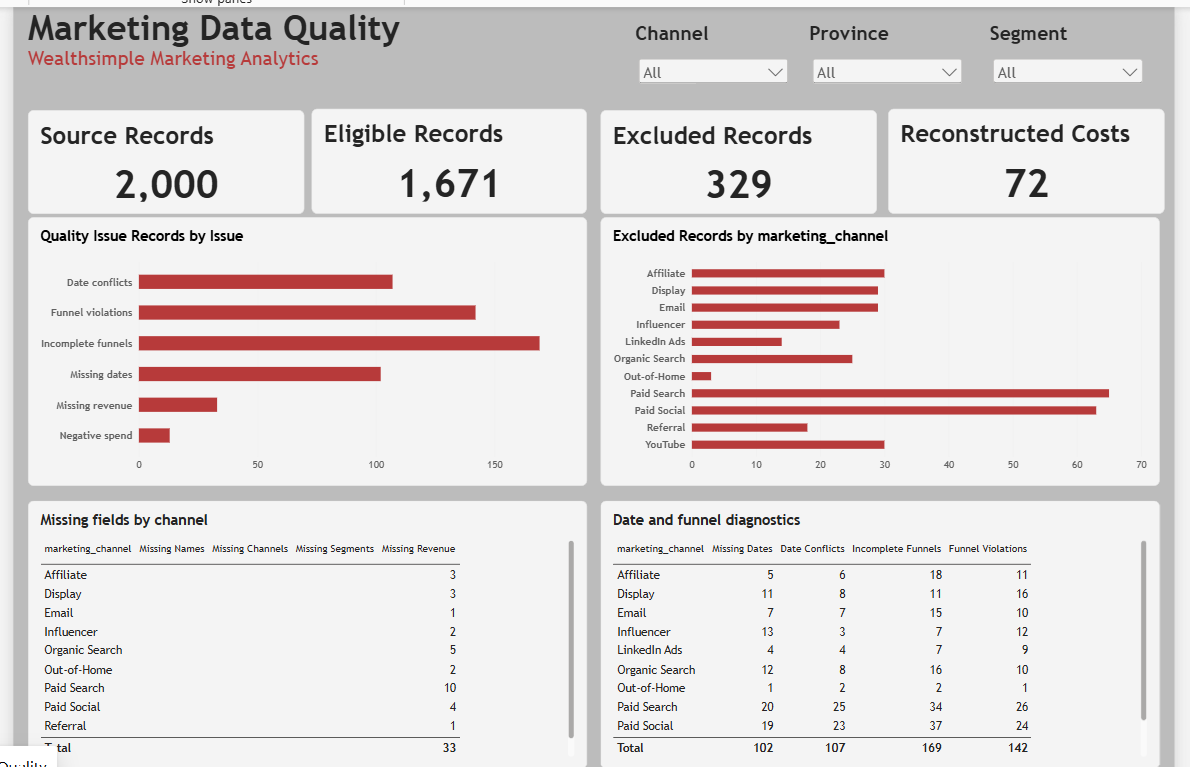

The dashboard page shown, as its layout file describes it:
{"tool":"powerbi","page":{"name":"Data Quality","canvas":[1600,1100],"ordinal":0},"visuals":[{"type":"slicer","title":"Channel","fields":{"Values":["Fact_Campaigns.marketing_channel"]},"box":[857.5,20,215,105],"z":0},{"type":"slicer","title":"Province","fields":{"Values":["Fact_Campaigns.province"]},"box":[1097.5,20,215,105],"z":1000},{"type":"slicer","title":"Segment","fields":{"Values":["Fact_Campaigns.customer_segment"]},"box":[1345,20,215,105],"z":2000},{"type":"card","title":"Source Records","fields":{"Values":["Fact_Campaigns.Source Records"]},"box":[19.4,142.6,380.6,143.5],"z":3000},{"type":"card","title":"Eligible Records","fields":{"Values":["Fact_Campaigns.Eligible Records"]},"box":[411.3,140.9,379,145.2],"z":4000},{"type":"card","title":"Excluded Records","fields":{"Values":["Fact_Campaigns.Excluded Records"]},"box":[809.7,142.6,380.6,143.5],"z":5000},{"type":"card","title":"Reconstructed Costs","fields":{"Values":["Fact_Campaigns.Reconstructed Costs"]},"box":[1204.8,140.9,380.6,145.2],"z":6000},{"type":"clusteredBarChart","fields":{"Category":["Quality_Issues.Issue"],"Y":["Fact_Campaigns.Quality Issue Records"]},"box":[20,290,770,370],"z":7000},{"type":"clusteredBarChart","fields":{"Category":["Fact_Campaigns.marketing_channel"],"Y":["Fact_Campaigns.Excluded Records"]},"box":[810,290,770,370],"z":8000},{"type":"tableEx","title":"Missing fields by channel","fields":{"Values":["Fact_Campaigns.marketing_channel","Fact_Campaigns.Missing Names","Fact_Campaigns.Missing Channels","Fact_Campaigns.Missing Segments","Fact_Campaigns.Missing Revenue"]},"box":[20,680,770,370],"z":9000},{"type":"tableEx","title":"Date and funnel diagnostics","fields":{"Values":["Fact_Campaigns.marketing_channel","Fact_Campaigns.Missing Dates","Fact_Campaigns.Date Conflicts","Fact_Campaigns.Incomplete Funnels","Fact_Campaigns.Funnel Violations"]},"box":[810,680,770,370],"z":10000},{"type":"textbox","box":[20,0,531.7,100],"z":11000}]}

Visuals, with their boxes on the page's 1600x1100 design canvas (x1, y1, x2, y2). These are canvas units, not pixel positions in the 1190x767 screenshot, which may show the page scaled, cropped or inside an application window:
"Channel" slicer: <region>858, 20, 1072, 125</region>
"Province" slicer: <region>1098, 20, 1312, 125</region>
"Segment" slicer: <region>1345, 20, 1560, 125</region>
"Source Records" card: <region>19, 143, 400, 286</region>
"Eligible Records" card: <region>411, 141, 790, 286</region>
"Excluded Records" card: <region>810, 143, 1190, 286</region>
"Reconstructed Costs" card: <region>1205, 141, 1585, 286</region>
clusteredBarChart - Quality_Issues.Issue x Fact_Campaigns.Quality Issue Records: <region>20, 290, 790, 660</region>
clusteredBarChart - Fact_Campaigns.marketing_channel x Fact_Campaigns.Excluded Records: <region>810, 290, 1580, 660</region>
"Missing fields by channel" tableEx: <region>20, 680, 790, 1050</region>
"Date and funnel diagnostics" tableEx: <region>810, 680, 1580, 1050</region>
textbox: <region>20, 0, 552, 100</region>
